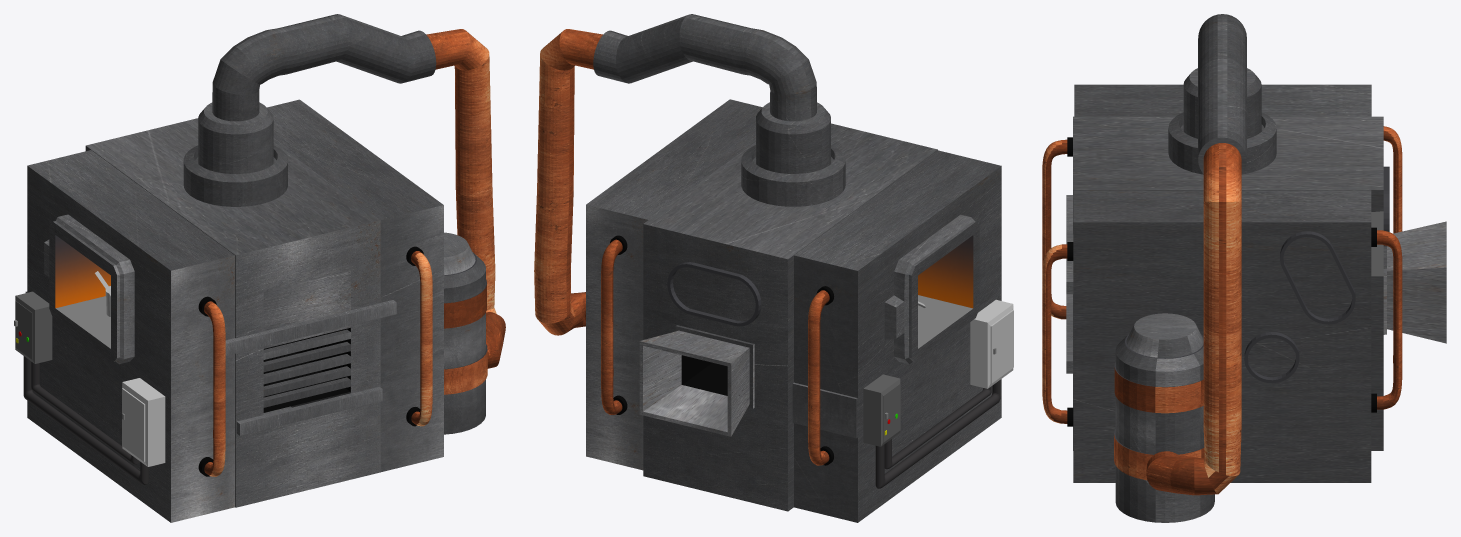
The model's file is Maquina Fundidora de Metales.fbx.
The picture shows the model from 3 angles, left to right: view 1: azimuth 30°, elevation 25°; view 2: azimuth 150°, elevation 25°; view 3: azimuth 270°, elevation 25°; orthographic projection. The views are drawn at different scales.
Visible parts, largest first — view 1: Maquina Fundidora de Metales; view 2: Maquina Fundidora de Metales; view 3: Maquina Fundidora de Metales.
Part boxes in pixels (x1,y1,x2,y2): Maquina Fundidora de Metales: (14, 14, 505, 522); Maquina Fundidora de Metales: (534, 14, 1013, 522); Maquina Fundidora de Metales: (1042, 14, 1446, 522).
Size of the model in its own units: 465 by 425 by 379.
